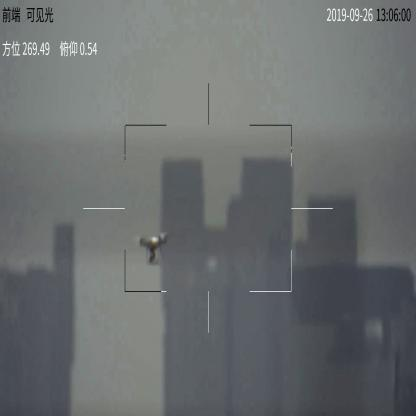uav: (132, 228, 171, 264)
